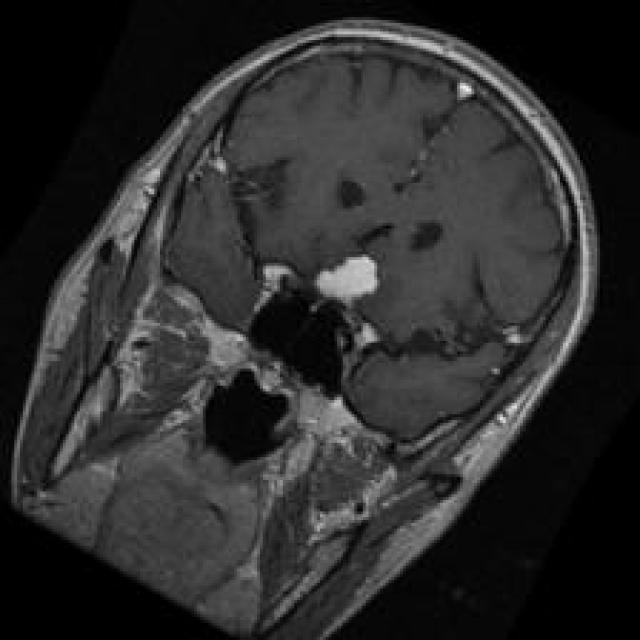meningioma_tumor: (308, 244, 396, 312)
